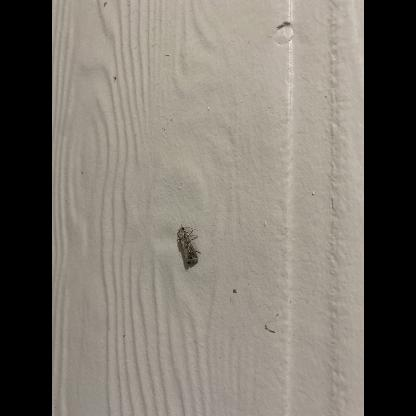Fall Armyworm Moth: (176, 224, 202, 266)
